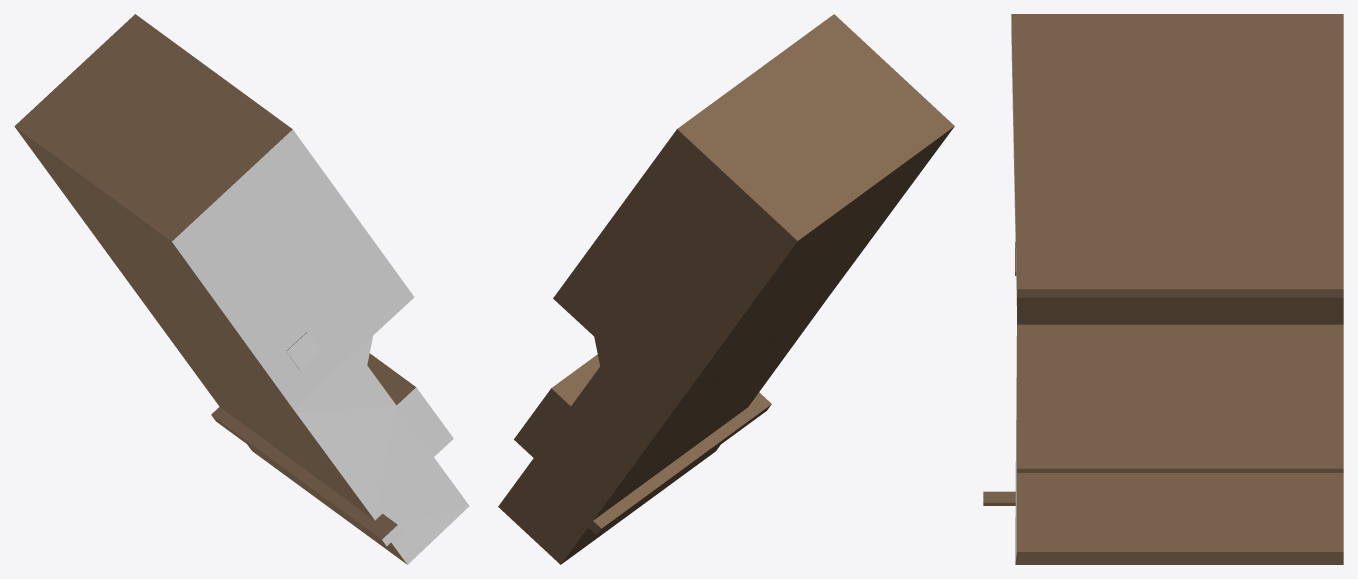
The picture shows the model from 3 angles, left to right: view 1: azimuth 30°, elevation 25°; view 2: azimuth 150°, elevation 25°; view 3: azimuth 270°, elevation 25°; orthographic projection. The views are drawn at different scales.
Parts seen in each view (by area): view 1: City_PC-01201; view 2: City_PC-01201; view 3: City_PC-01201.
Boxes of the visible parts, box(x1,y1,x2,y2) form: City_PC-01201: box(14, 14, 469, 564); City_PC-01201: box(498, 14, 954, 564); City_PC-01201: box(983, 14, 1343, 564).
Bounding box in the file's own units: 1623 × 2403 × 1598.
